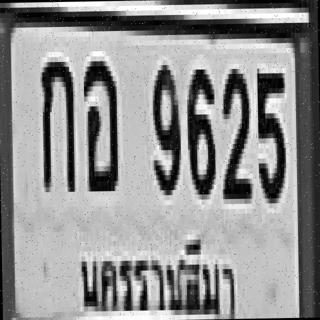A01: (40, 56, 73, 187)
A43: (81, 56, 116, 186)
N02: (220, 64, 249, 194)
N05: (255, 68, 284, 198)
N06: (184, 64, 214, 195)
N09: (150, 60, 180, 190)
P30: (71, 224, 238, 320)
